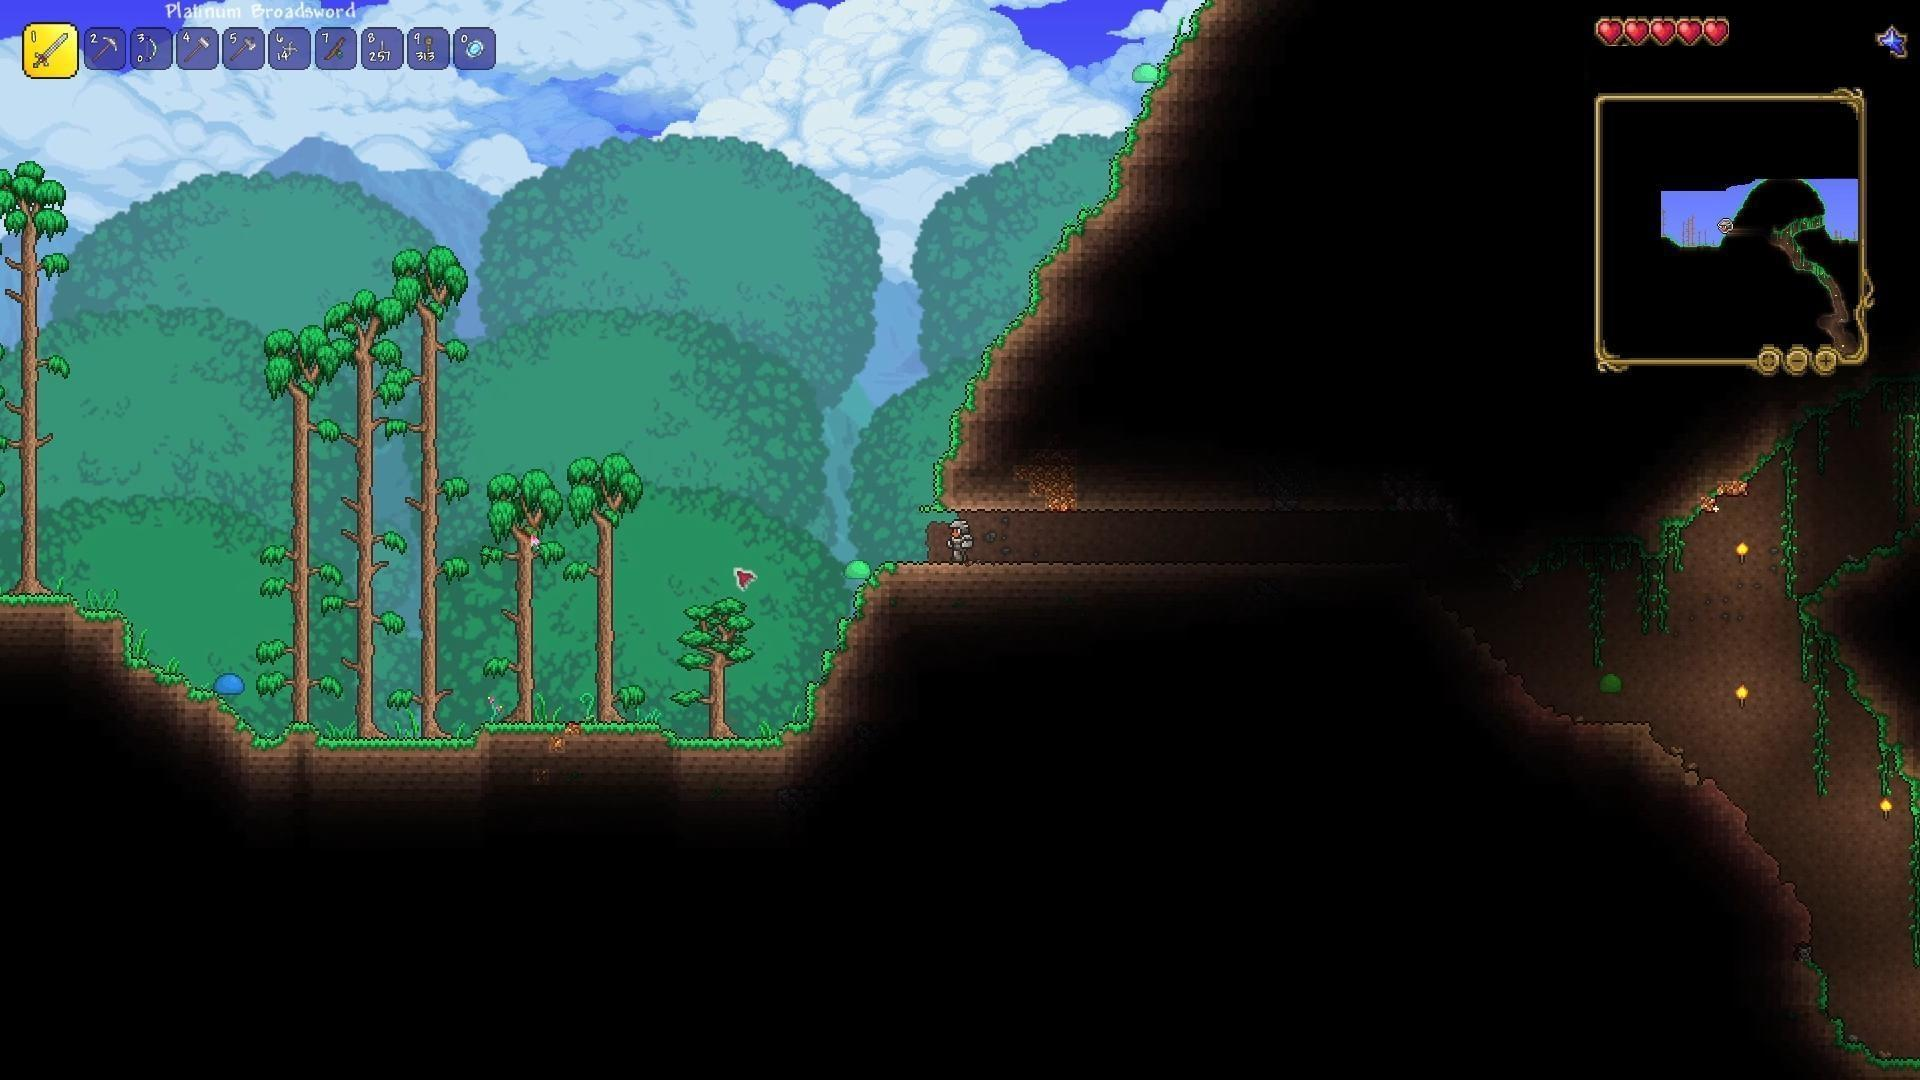dirt: (1021, 103, 1160, 334), (927, 305, 1035, 513), (1800, 615, 1920, 789), (781, 580, 877, 740), (1782, 510, 1920, 611), (82, 611, 202, 709), (1801, 972, 1916, 1069), (266, 724, 476, 758), (477, 713, 665, 750), (1154, 3, 1221, 100), (203, 688, 269, 746), (646, 728, 764, 758), (0, 589, 73, 622)
heart: (1702, 17, 1733, 51), (1593, 16, 1626, 46), (1676, 15, 1704, 50), (1650, 16, 1676, 49), (1625, 15, 1651, 44)
tree: (404, 239, 484, 746), (324, 298, 397, 738), (3, 157, 65, 607), (264, 311, 331, 724), (480, 469, 563, 717), (579, 440, 646, 723), (669, 583, 756, 741), (1002, 455, 1085, 517)
